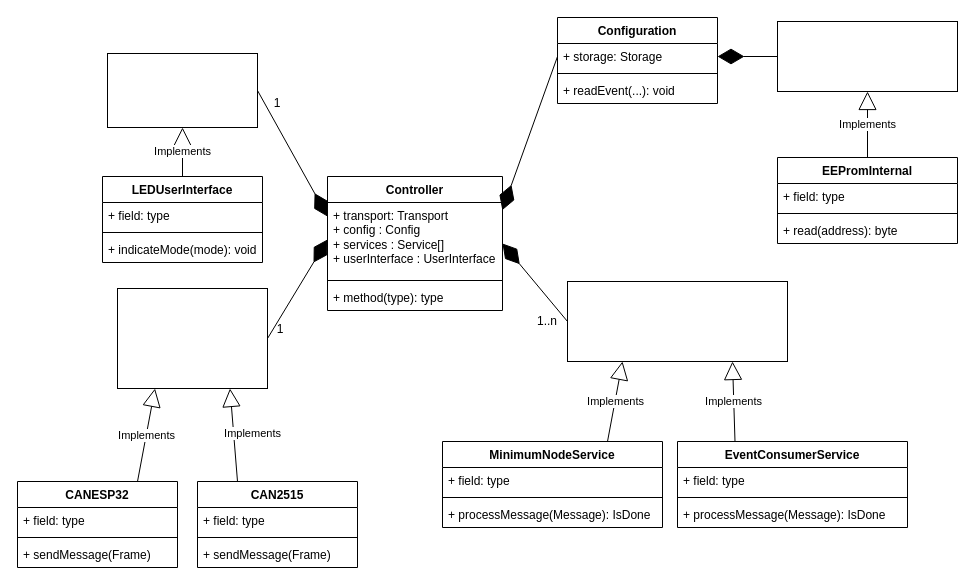
This 975x588 diagram has some shape labels left out. The shapes that lost their labels are listed below. From the top down, each one's centre as x and y in pixels, then its label:
the point at 867,56: «interface» Storage + read(address): byte
the point at 182,90: «interface» UserInterface + indicateMode(mode)
the point at 192,338: «interface» Transport + sendMessage(Frame)
the point at 677,321: «interface» Service + processMessage(Message): IsDone
